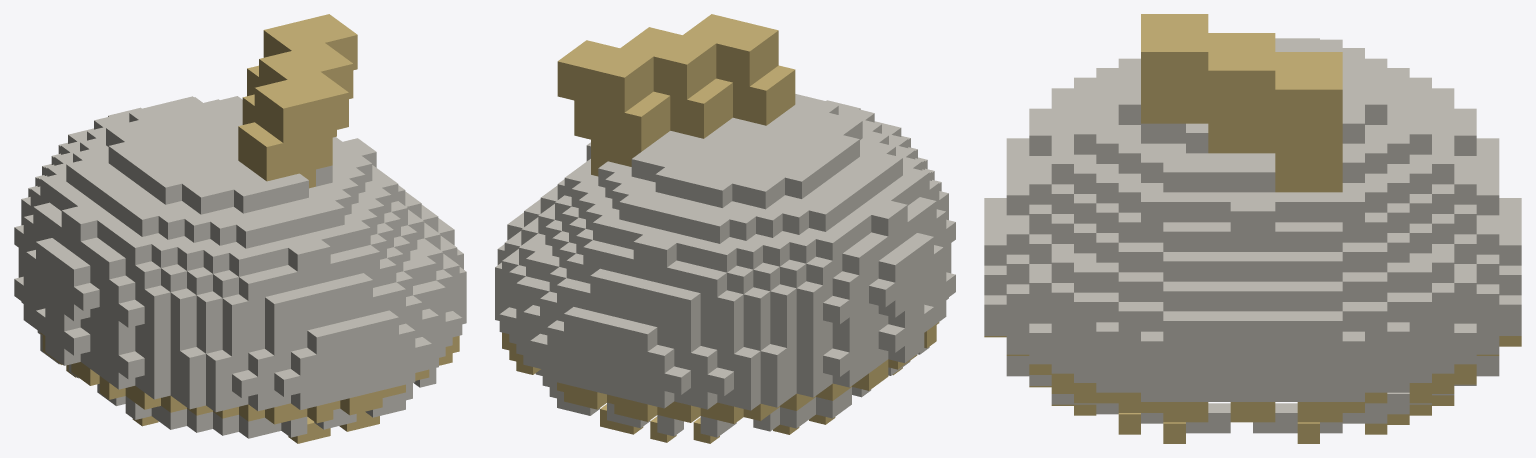
The model's file is cloth_legendary_shoulder_L.glb.
3 renders of one model, left to right at view 1: azimuth 30°, elevation 25°; view 2: azimuth 150°, elevation 25°; view 3: azimuth 270°, elevation 25°, orthographic. The views are drawn at different scales.
Parts seen in each view (by area): view 1: cloth_legendary_shoulder_L; view 2: cloth_legendary_shoulder_L; view 3: cloth_legendary_shoulder_L.
Part boxes in pixels (box(x1,y1,x2,y2)): cloth_legendary_shoulder_L: box(14, 14, 466, 443); cloth_legendary_shoulder_L: box(495, 14, 955, 443); cloth_legendary_shoulder_L: box(984, 14, 1521, 443).
Bounding box in the file's own units: 0.264 × 0.204 × 0.288.
